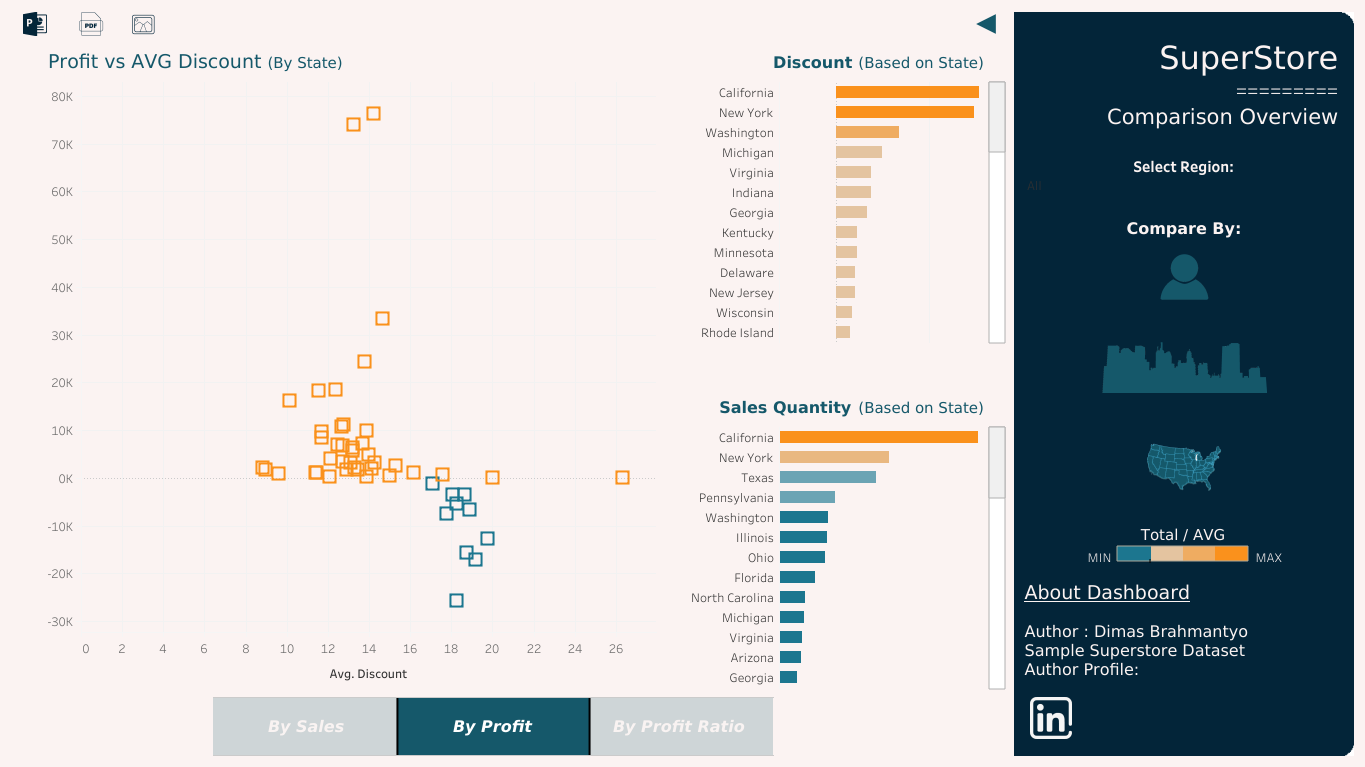

This screenshot's page, from the dashboard's own definition file:
{"tool":"tableau","page":{"name":"Dashboard 2 - Comparison Overview (By State)","canvas":[1366,768],"ordinal":3},"visuals":[{"type":"dashboard-object","box":[8,8,54,32]},{"type":"dashboard-object","box":[62,8,60,32]},{"type":"dashboard-object","box":[122,8,44,32]},{"type":"worksheet","title":"Go Back","mark":"Shape","rows":["Calculation_132293265483010062"],"box":[962,8,48,32]},{"type":"image","param":"Image/2.png","box":[1010,8,348,752]},{"type":"text","box":[1025,21,316,125]},{"type":"worksheet","title":"Sheet 8 (3)","mark":"Shape","rows":["Calculation_132293265338007554"],"cols":["Calculation_1180506078092304394"],"box":[40,40,620,653]},{"type":"worksheet","title":"Based on State","mark":"Automatic","rows":["State"],"box":[683,40,327,307]},{"type":"blank","box":[1025,154,317,44]},{"type":"setMembership","title":"Sheet 8 (3)","param":"[federated.1u37z9d020ffhv1e04nla11qurtp].[a1. Select Region Set]","box":[1025,154,317,44]},{"type":"text","box":[1027,213,314,30]},{"type":"dashboard-object","box":[1028,251,313,52]},{"type":"dashboard-object","box":[1029,341,311,52]},{"type":"worksheet","title":"Quantity Based on State","mark":"Automatic","rows":["State"],"cols":["Quantity"],"box":[683,385,327,308]},{"type":"dashboard-object","box":[1027,440,314,52]},{"type":"legend","title":"Based on State","param":"[federated.1u37z9d020ffhv1e04nla11qurtp].[usr:Calculation_132293265338007554:qk]","box":[1113,522,140,43]},{"type":"text","box":[1085,546,29,21]},{"type":"text","box":[1253,546,37,22]},{"type":"text","box":[1022,577,272,106]},{"type":"worksheet","title":"LinkedIn","mark":"Shape","rows":["Calculation_1125055507973922816"],"box":[1022,691,57,53]},{"type":"worksheet","title":"Field Button (Dashboard 2)","mark":"Shape","box":[209,693,569,67]}]}

Visuals, with their boxes in screenshot pixels (x1, y1, x2, y2), scaled from the page's 1366x768 canvas onto the 1365x767 screenshot:
dashboard-object: [x1=8, y1=8, x2=62, y2=40]
dashboard-object: [x1=62, y1=8, x2=122, y2=40]
dashboard-object: [x1=122, y1=8, x2=166, y2=40]
"Go Back" worksheet (Shape marks): [x1=961, y1=8, x2=1009, y2=40]
image: [x1=1009, y1=8, x2=1357, y2=759]
text: [x1=1024, y1=21, x2=1340, y2=146]
"Sheet 8 (3)" worksheet (Shape marks): [x1=40, y1=40, x2=660, y2=692]
"Based on State" worksheet: [x1=682, y1=40, x2=1009, y2=347]
blank: [x1=1024, y1=154, x2=1341, y2=198]
"Sheet 8 (3)" setMembership: [x1=1024, y1=154, x2=1341, y2=198]
text: [x1=1026, y1=213, x2=1340, y2=243]
dashboard-object: [x1=1027, y1=251, x2=1340, y2=303]
dashboard-object: [x1=1028, y1=341, x2=1339, y2=392]
"Quantity Based on State" worksheet: [x1=682, y1=384, x2=1009, y2=692]
dashboard-object: [x1=1026, y1=439, x2=1340, y2=491]
"Based on State" legend: [x1=1112, y1=521, x2=1252, y2=564]
text: [x1=1084, y1=545, x2=1113, y2=566]
text: [x1=1252, y1=545, x2=1289, y2=567]
text: [x1=1021, y1=576, x2=1293, y2=682]
"LinkedIn" worksheet (Shape marks): [x1=1021, y1=690, x2=1078, y2=743]
"Field Button (Dashboard 2)" worksheet (Shape marks): [x1=209, y1=692, x2=777, y2=759]
